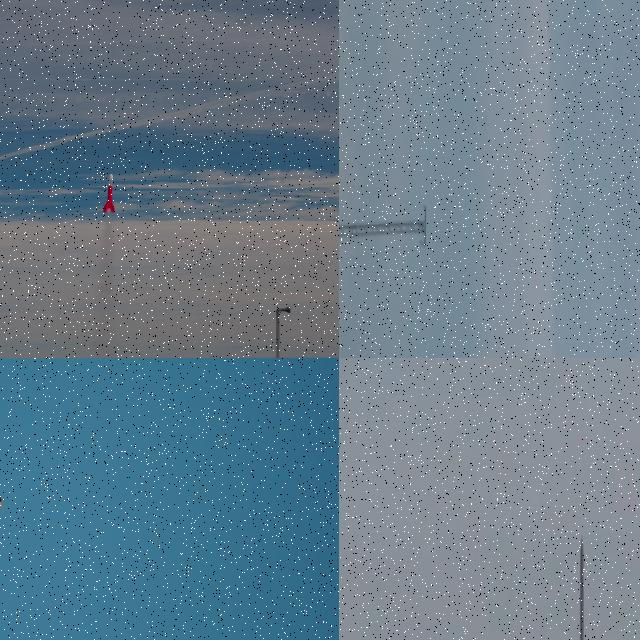Rocket: (576, 534, 587, 640), (104, 174, 116, 214), (0, 493, 4, 510)
